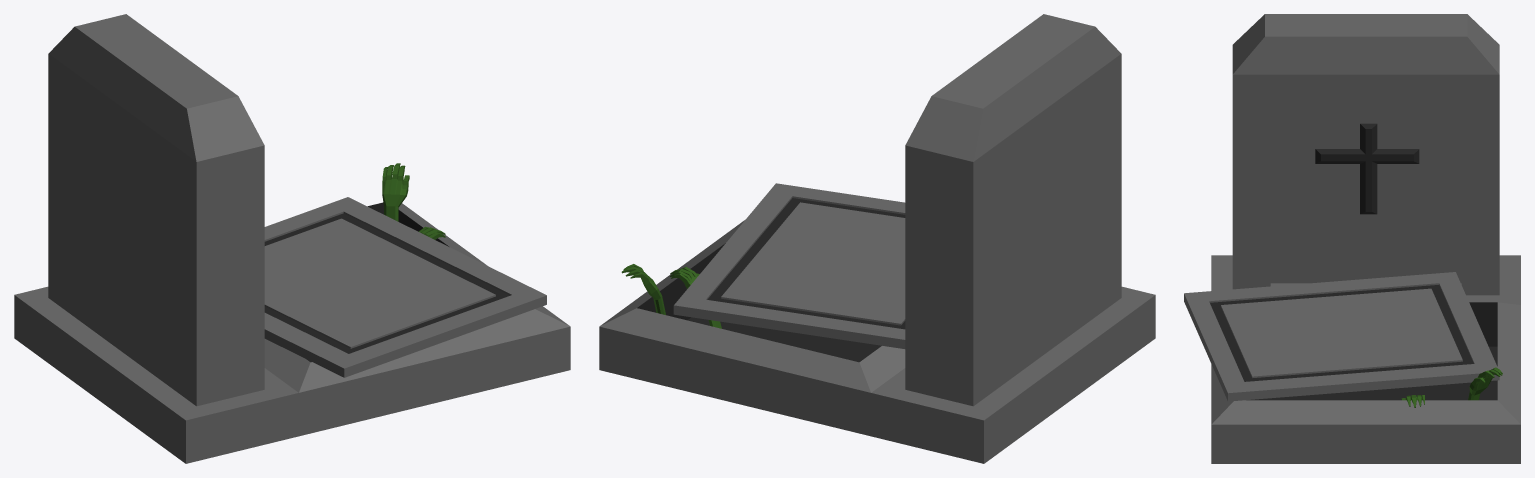
File: tombe_fosseOuvert.fbx
3 views of the same model, side by side, from view 1: azimuth 30°, elevation 25°; view 2: azimuth 150°, elevation 25°; view 3: azimuth 270°, elevation 25° (orthographic). The views are drawn at different scales.
Parts seen in each view (by area): view 1: tombe, Cube.001; view 2: tombe, Cube.001; view 3: tombe, Cube.001.
Part boxes in pixels (x1,y1,x2,y2): tombe: (14, 14, 570, 463); Cube.001: (382, 163, 409, 221); tombe: (599, 14, 1155, 463); Cube.001: (621, 264, 665, 314); tombe: (1184, 14, 1520, 463); Cube.001: (1468, 367, 1502, 400).
Bounding box in the file's own units: 162 × 131 × 136.
Materials: 2 (2 with a texture image).
